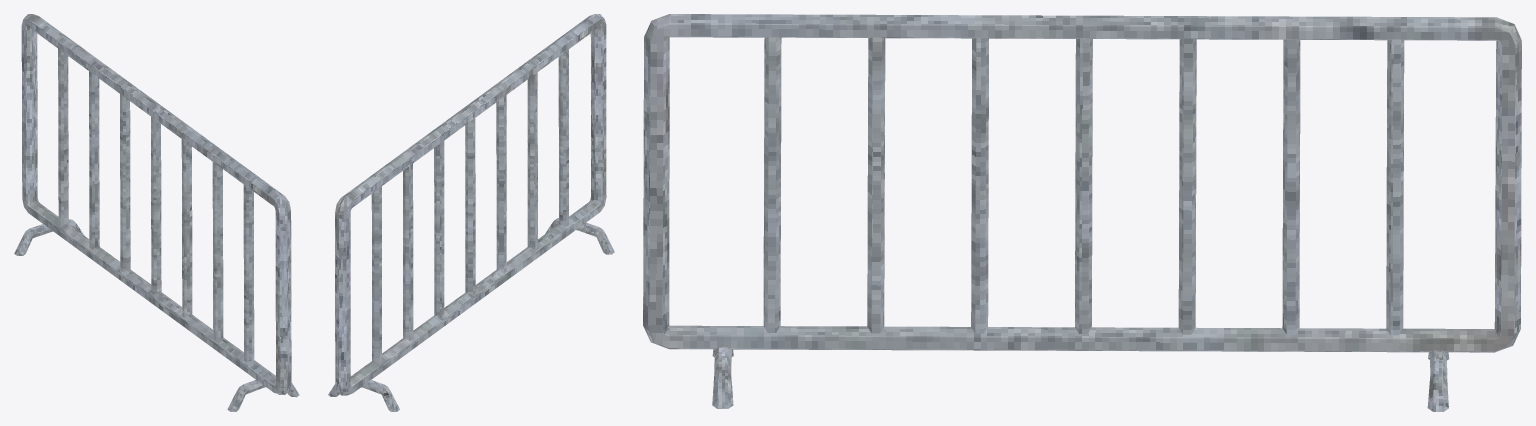
File: lillehegn.glb
The picture shows the model from 3 angles, left to right: view 1: azimuth 30°, elevation 25°; view 2: azimuth 150°, elevation 25°; view 3: azimuth 270°, elevation 25°; orthographic projection. The views are drawn at different scales.
Parts seen in each view (by area): view 1: Cylinder_0, Cylinder.001_1, Cylinder.002_2; view 2: Cylinder_0, Cylinder.001_1, Cylinder.002_2; view 3: Cylinder_0, Cylinder.001_1, Cylinder.002_2.
Part boxes in pixels (box(x1,y1,x2,y2)): Cylinder_0: box(21, 14, 291, 394); Cylinder.001_1: box(58, 49, 254, 362); Cylinder.002_2: box(14, 219, 299, 411); Cylinder_0: box(335, 14, 606, 395); Cylinder.001_1: box(371, 49, 568, 363); Cylinder.002_2: box(328, 218, 614, 411); Cylinder_0: box(643, 14, 1521, 352); Cylinder.001_1: box(763, 37, 1404, 335); Cylinder.002_2: box(712, 347, 1449, 411).
Size of the model in its own units: 0.3125 by 0.9373 by 2.02.
1 material, 1 textured.
